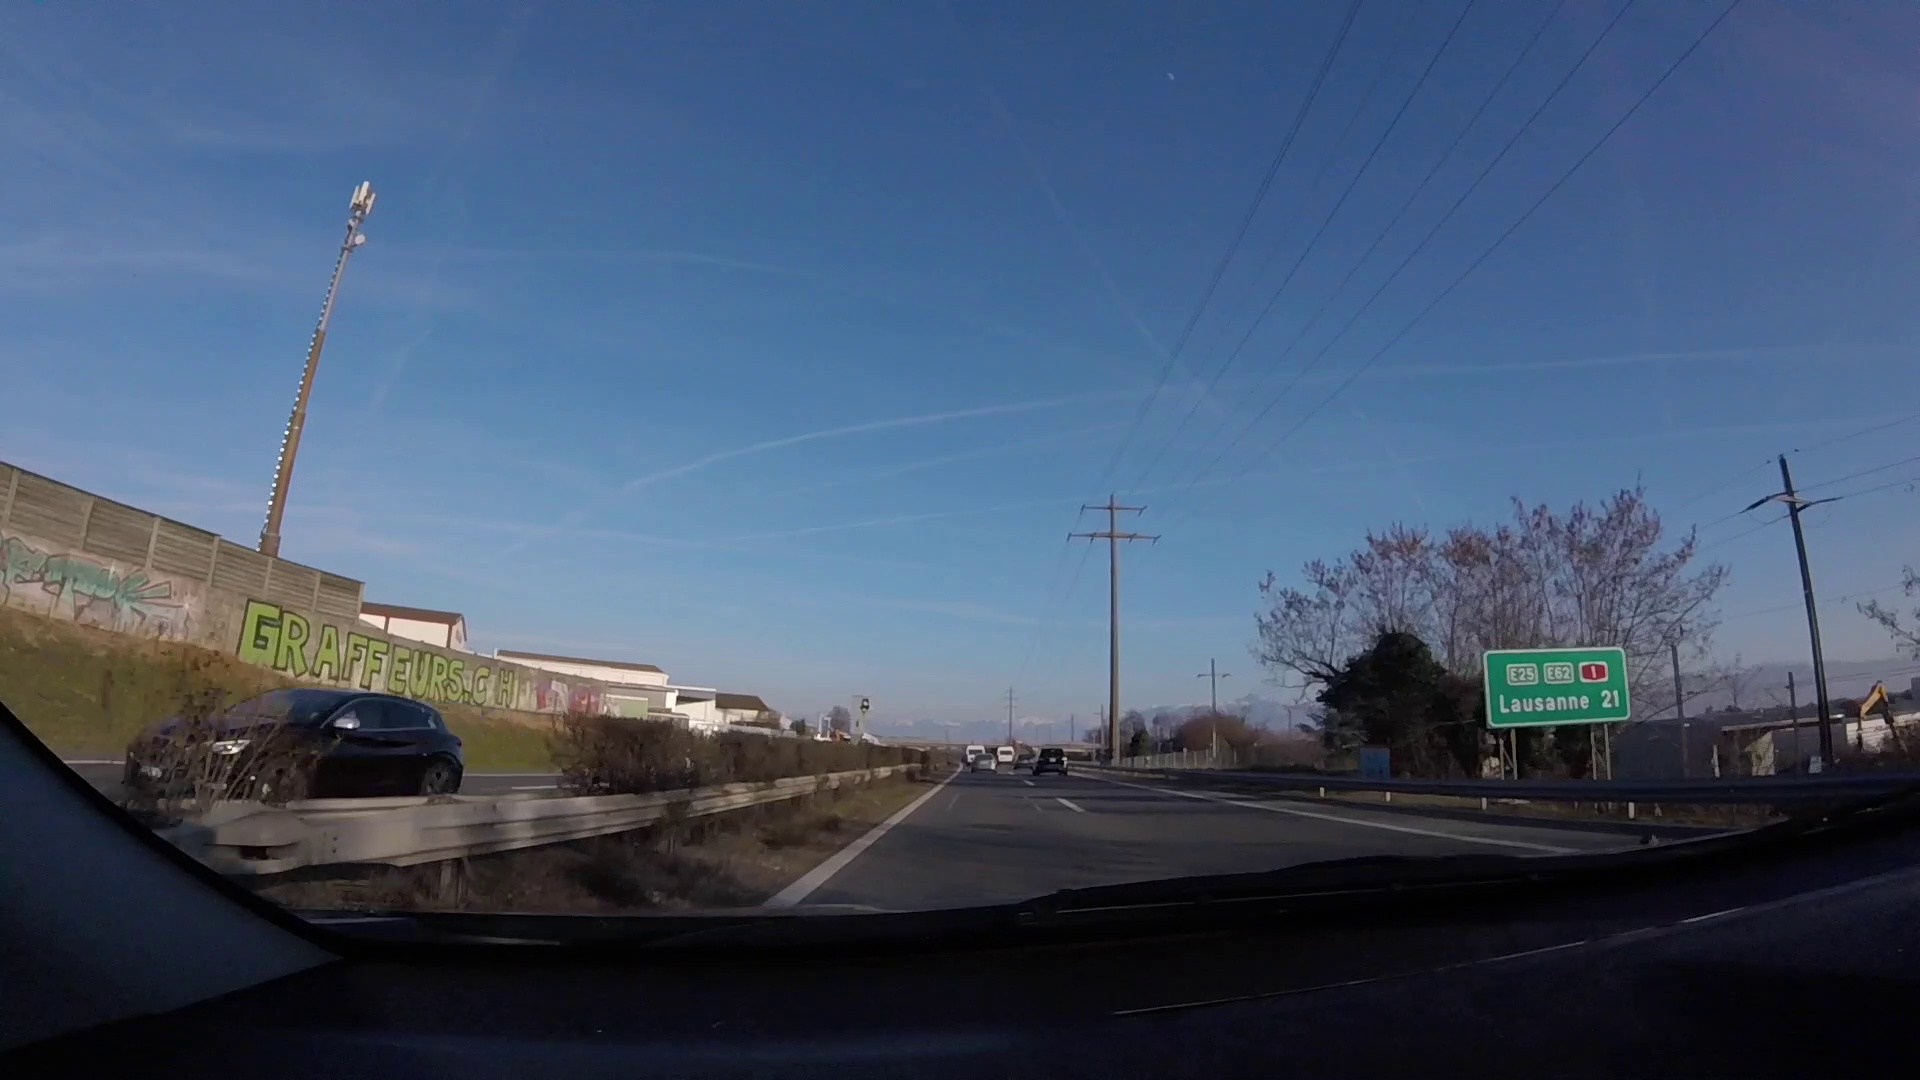radar: (849, 694, 876, 746)
